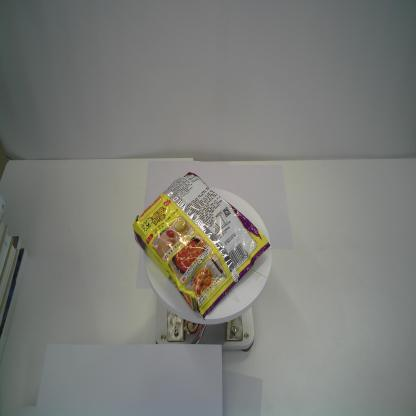Instant Noodles: (131, 170, 272, 321)
